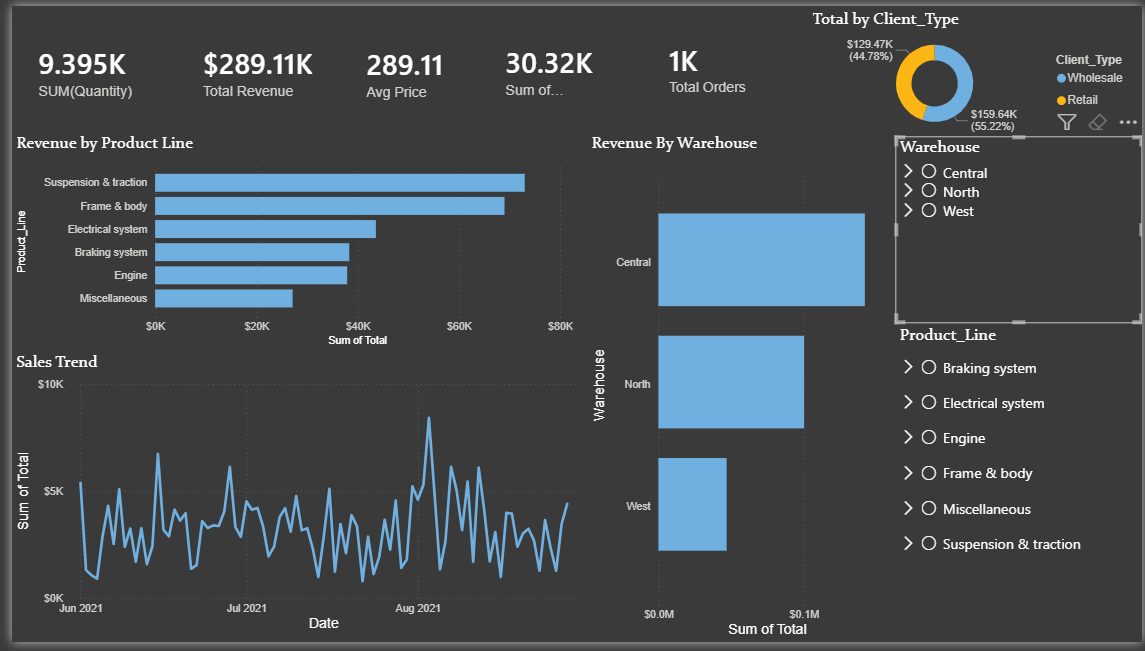

This screenshot's page, from the dashboard's own definition file:
{"tool":"powerbi","page":{"name":"Exective Summary","canvas":[1280,720],"ordinal":0},"visuals":[{"type":"cardVisual","title":"Total Revenue","fields":{"Data":["Sum(sales.Total)"]},"box":[186,0,186,147],"z":0},{"type":"cardVisual","fields":{"Data":["Count(sales.Order_Number)"]},"box":[714.3,0,187.1,140],"z":1000},{"type":"cardVisual","fields":{"Data":["Sum(sales.Quantity)"]},"box":[0,0,186,146],"z":2000},{"type":"cardVisual","fields":{"Data":["Sum(sales.Unit_Price)"]},"box":[528.5,3,186.3,140.7],"z":3000},{"type":"cardVisual","fields":{"Data":["sales.Average_Order_Value"]},"box":[371.6,3,156.9,145.8],"z":4000},{"type":"lineChart","title":"Sales Trend","fields":{"Category":["sales.Date "],"Y":["Sum(sales.Total)"]},"box":[0,390,659.1,322.7],"z":5000},{"type":"barChart","title":"Revenue by Product Line","fields":{"Category":["sales.Product_Line"],"Y":["Sum(sales.Total)"]},"box":[0,143,640,247],"z":6000},{"type":"donutChart","title":"Total by Client_Type","fields":{"Category":["sales.Client_Type"],"Y":["Sum(sales.Total)"]},"box":[901.4,2.9,378.6,145.7],"z":7000},{"type":"barChart","title":"Revenue By Warehouse","fields":{"Category":["sales.Warehouse"],"Y":["Sum(sales.Total)"]},"box":[651,143,349,577],"z":8000},{"type":"listSlicer","fields":{"Values":["sales.Warehouse","sales.Client_Type"]},"box":[1000,147.1,280,212.9],"z":9000},{"type":"listSlicer","fields":{"Values":["sales.Product_Line","sales.Payment"]},"box":[1000,360,271.4,360],"z":10000}]}

Visuals, with their boxes in screenshot pixels (x1, y1, x2, y2), scaled from the page's 1280x720 canvas onto the 1145x651 screenshot:
"Total Revenue" cardVisual: bbox(166, 0, 333, 133)
cardVisual - Count(sales.Order_Number): bbox(639, 0, 806, 127)
cardVisual - Sum(sales.Quantity): bbox(0, 0, 166, 132)
cardVisual - Sum(sales.Unit_Price): bbox(473, 3, 639, 130)
cardVisual - sales.Average_Order_Value: bbox(332, 3, 473, 135)
"Sales Trend" lineChart: bbox(0, 353, 590, 644)
"Revenue by Product Line" barChart: bbox(0, 129, 572, 353)
"Total by Client_Type" donutChart: bbox(806, 3, 1144, 134)
"Revenue By Warehouse" barChart: bbox(582, 129, 895, 650)
listSlicer - sales.Warehouse x sales.Client_Type: bbox(895, 133, 1144, 326)
listSlicer - sales.Product_Line x sales.Payment: bbox(895, 326, 1137, 650)
